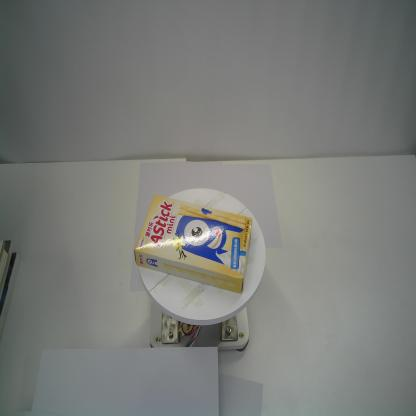Dessert: (133, 192, 253, 296)
